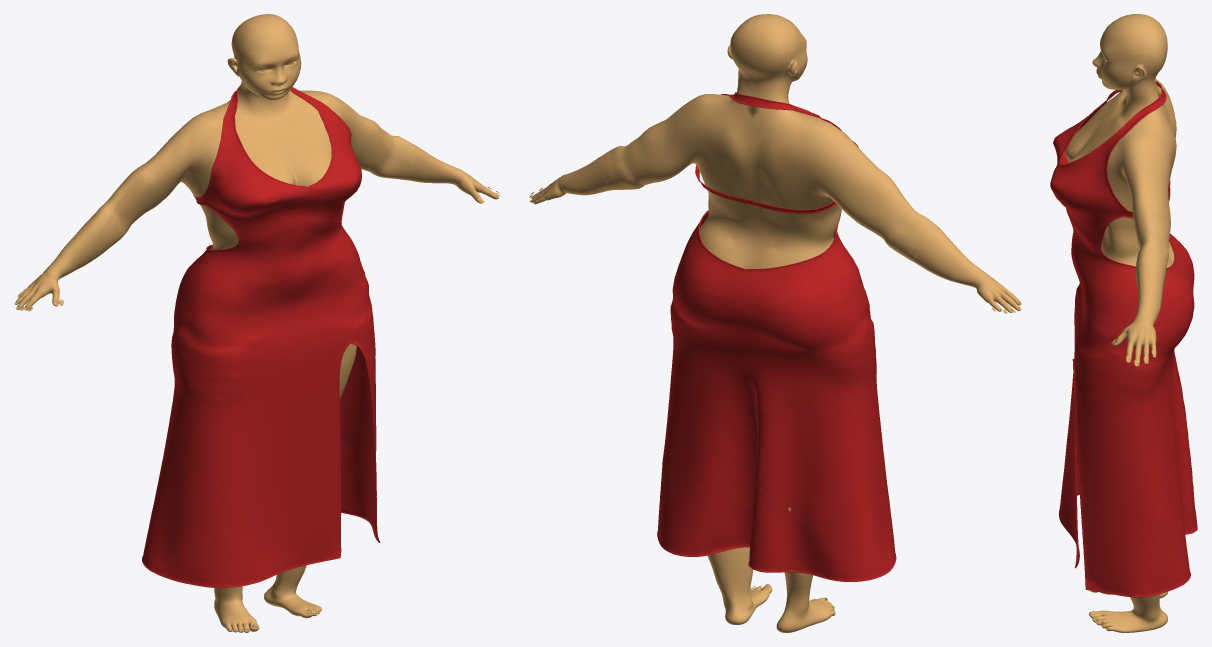
Rendered from dress3.glb.
3 renders of one model, left to right at view 1: azimuth 30°, elevation 25°; view 2: azimuth 150°, elevation 25°; view 3: azimuth 270°, elevation 25°, orthographic.
Visible parts, largest first — view 1: EveningDress, Body; view 2: EveningDress, Body; view 3: EveningDress, Body.
Part boxes in pixels (x1,y1,x2,y2): EveningDress: [142, 85, 380, 587]; Body: [14, 14, 499, 632]; EveningDress: [657, 92, 896, 582]; Body: [530, 14, 1021, 632]; EveningDress: [1050, 81, 1197, 597]; Body: [1065, 14, 1176, 632].
Size of the model in its own units: 1.59 by 1.88 by 0.4195.
